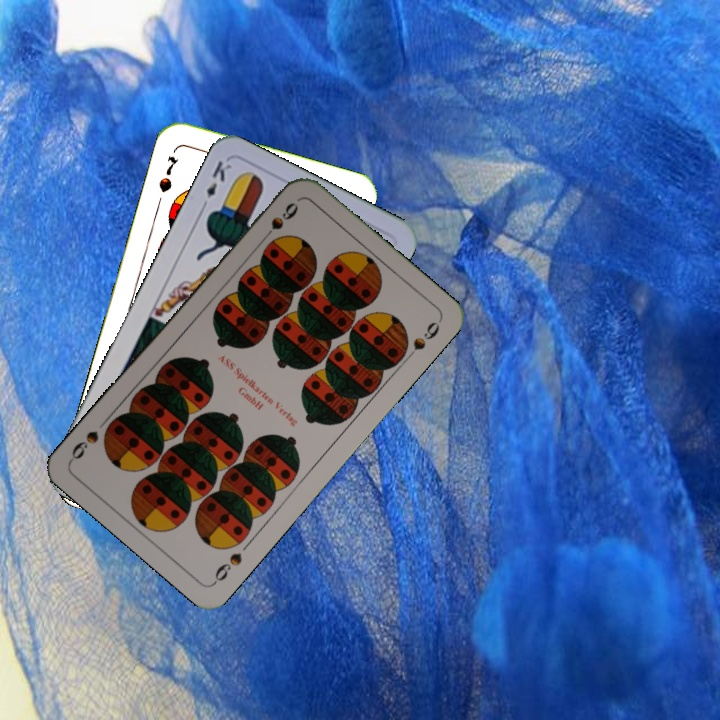EK: (196, 156, 234, 213)
S7: (155, 151, 181, 195)
S9: (257, 198, 301, 245), (209, 548, 245, 587)
